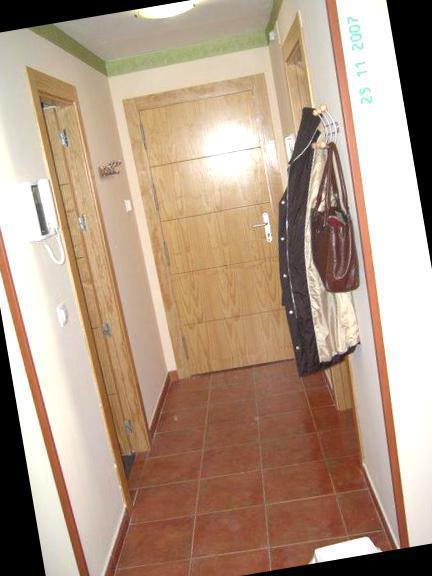Puerta: (38, 83, 178, 501), (125, 79, 309, 386)
